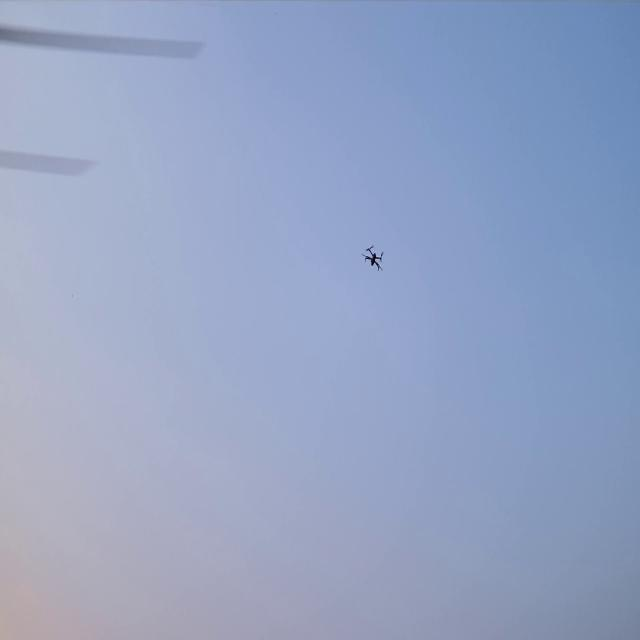UAV: (360, 244, 385, 272)
